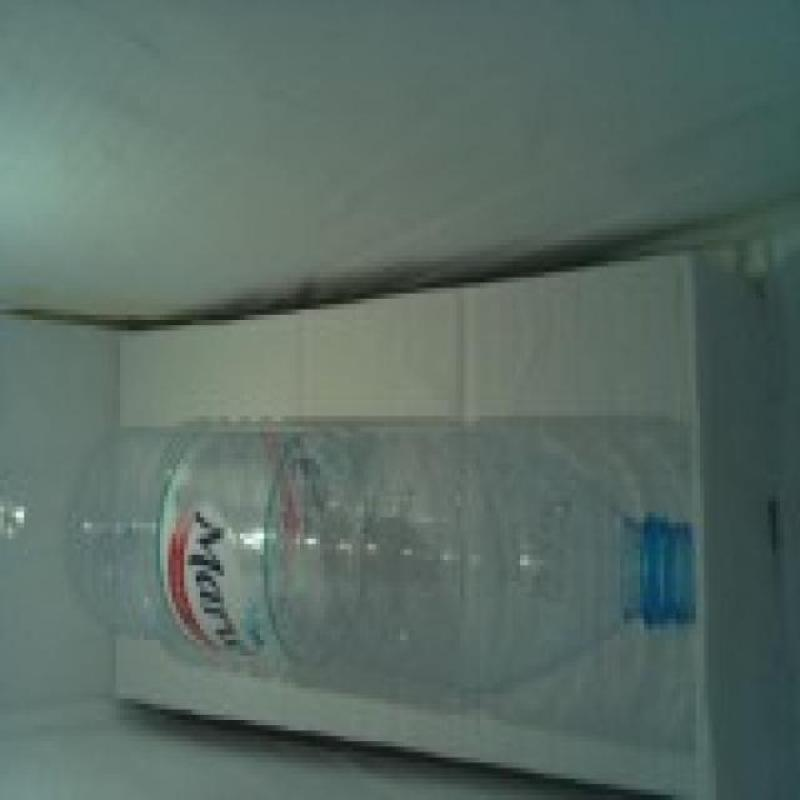botella: (64, 422, 694, 693)
